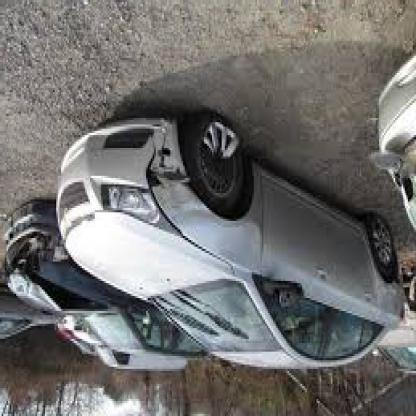dent: (247, 215, 265, 265)
